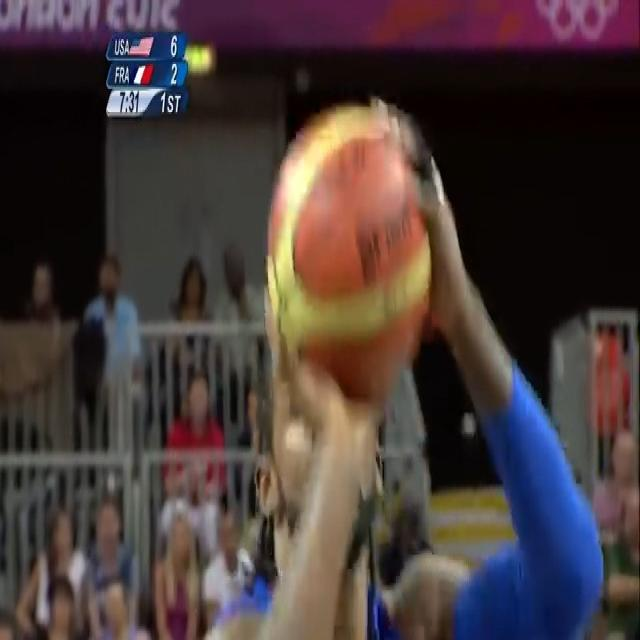basketball: (257, 94, 438, 408)
person: (92, 93, 629, 640), (17, 500, 85, 639), (84, 479, 137, 640)
